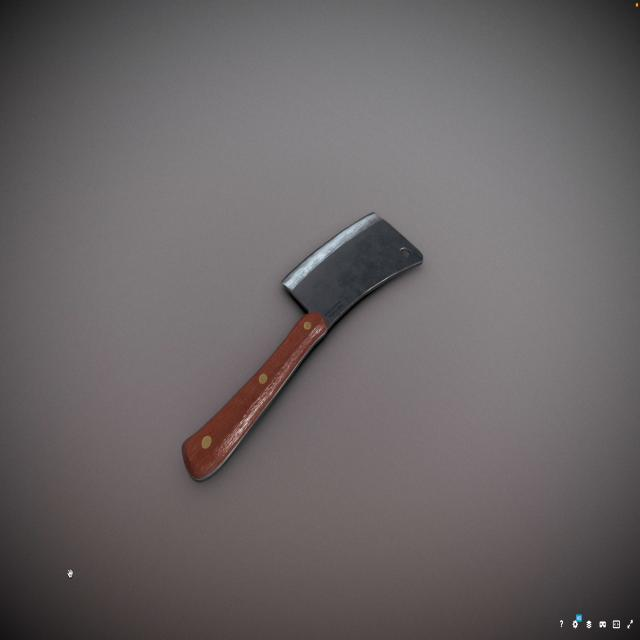cleaver: (181, 203, 424, 494)
